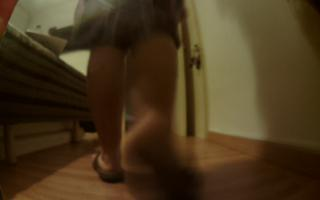person: (72, 1, 207, 200)
